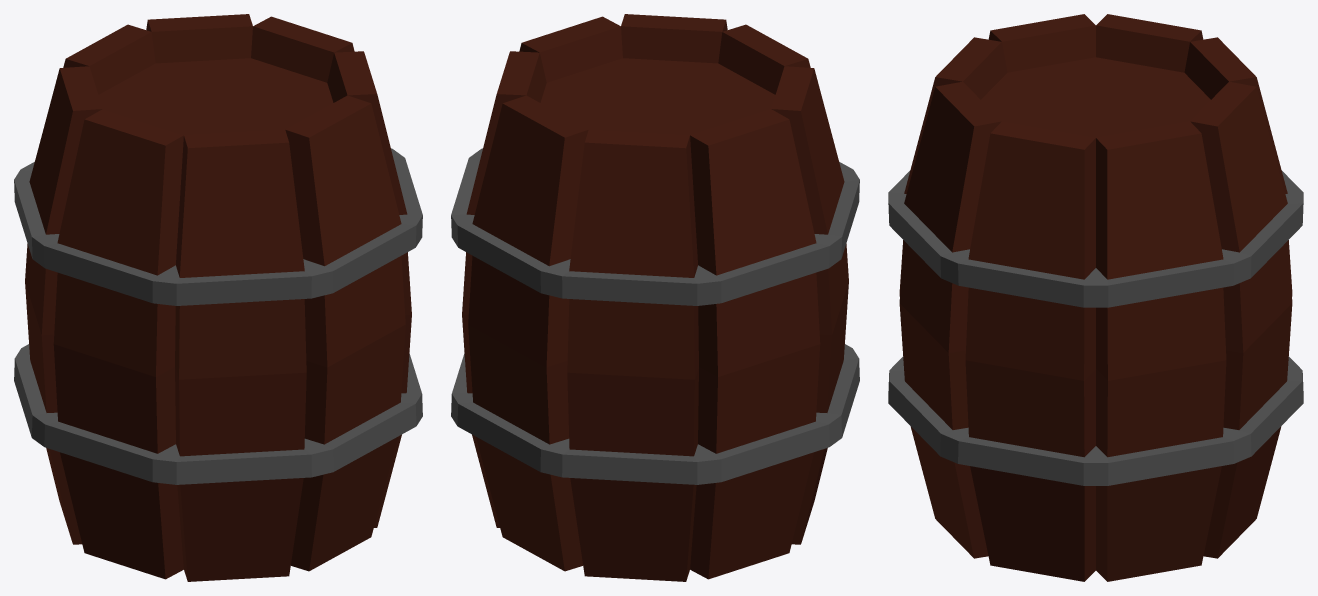
The model's file is barrel.obj.
3 renders of one model, left to right at view 1: azimuth 30°, elevation 25°; view 2: azimuth 150°, elevation 25°; view 3: azimuth 270°, elevation 25°, orthographic.
Parts seen in each view (by area): view 1: Barrel_Barrel_Cylinder.000; view 2: Barrel_Barrel_Cylinder.000; view 3: Barrel_Barrel_Cylinder.000.
Boxes of the visible parts, left/top/right/bottom form: Barrel_Barrel_Cylinder.000: left=14, top=14, right=422, bottom=581; Barrel_Barrel_Cylinder.000: left=451, top=14, right=859, bottom=581; Barrel_Barrel_Cylinder.000: left=888, top=14, right=1303, bottom=581.
Bounding box in the file's own units: 1.01 × 1.16 × 1.01.
